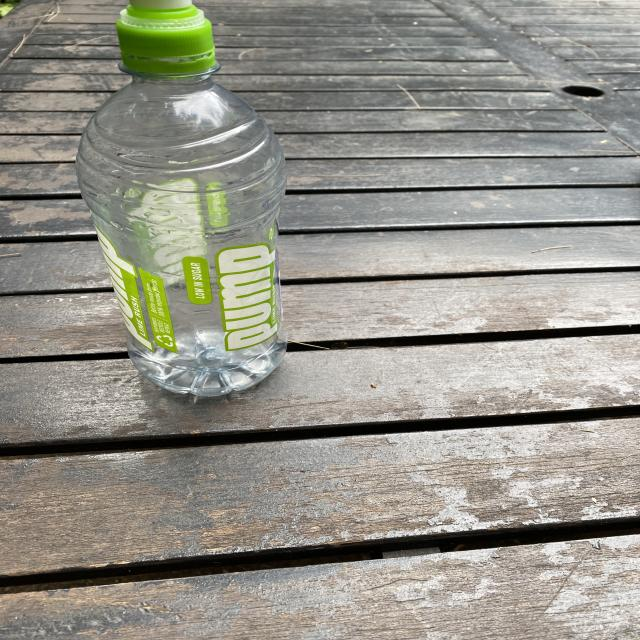bottle: (74, 0, 286, 396)
